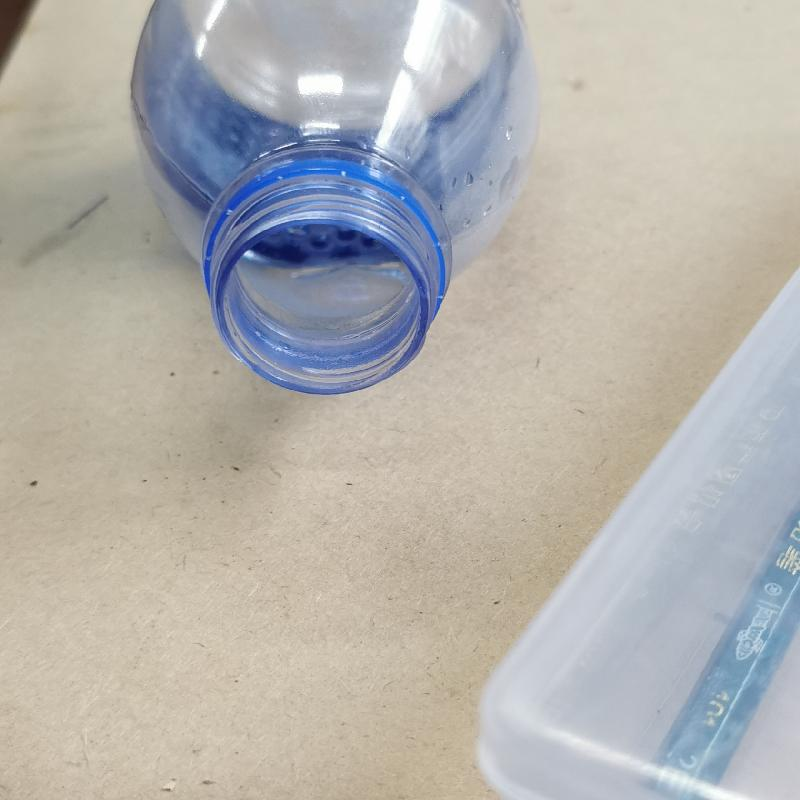bottles: (124, 1, 546, 407)
